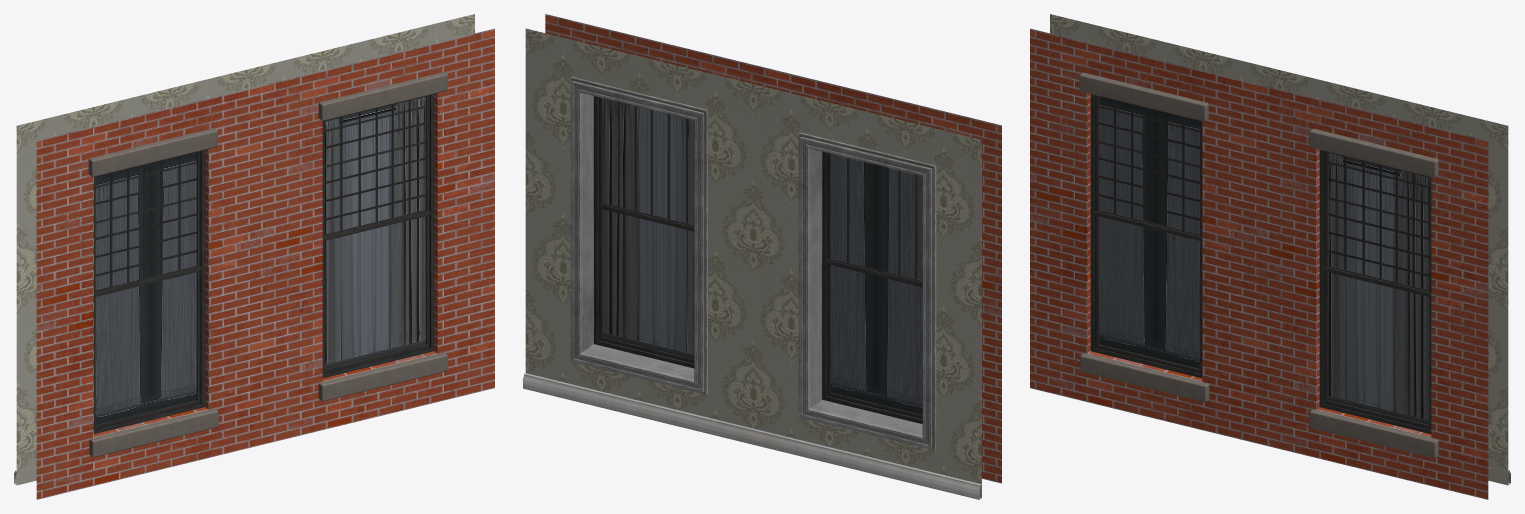
The model's file is House_02_Window_02.fbx.
The picture shows the model from 3 angles, left to right: view 1: azimuth 30°, elevation 25°; view 2: azimuth 150°, elevation 25°; view 3: azimuth 330°, elevation 25°; orthographic projection.
Parts seen in each view (by area): view 1: House_02_Window_02_LOD0; view 2: House_02_Window_02_LOD0; view 3: House_02_Window_02_LOD0.
Boxes of the visible parts, left/top/right/bottom form: House_02_Window_02_LOD0: left=14, top=14, right=494, bottom=499; House_02_Window_02_LOD0: left=523, top=14, right=1001, bottom=499; House_02_Window_02_LOD0: left=1030, top=14, right=1510, bottom=499.
Size of what is drawn, in the model's own units: 400 by 300 by 39.17.
